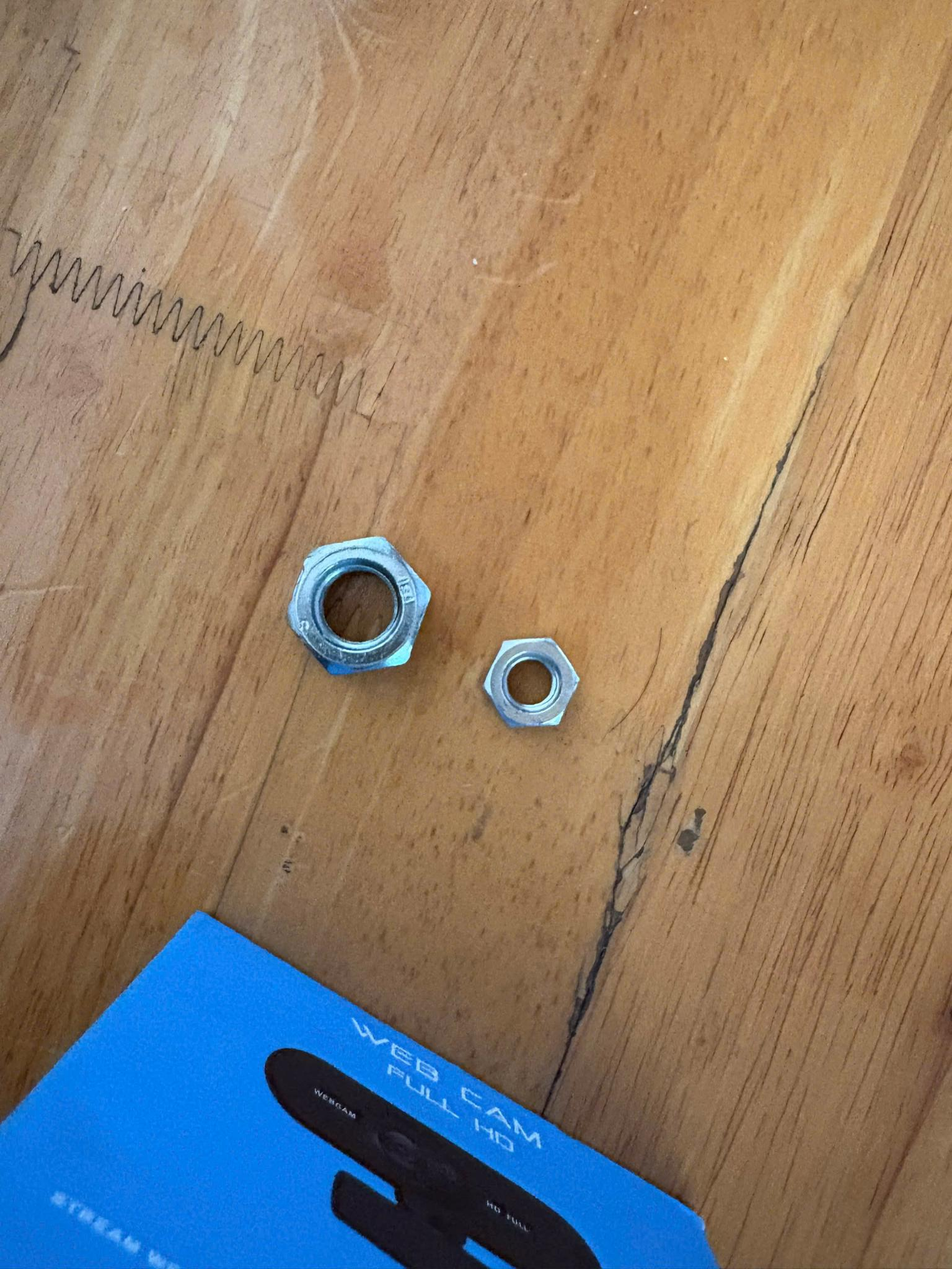nut: (268, 506, 444, 694), (488, 625, 581, 744)
